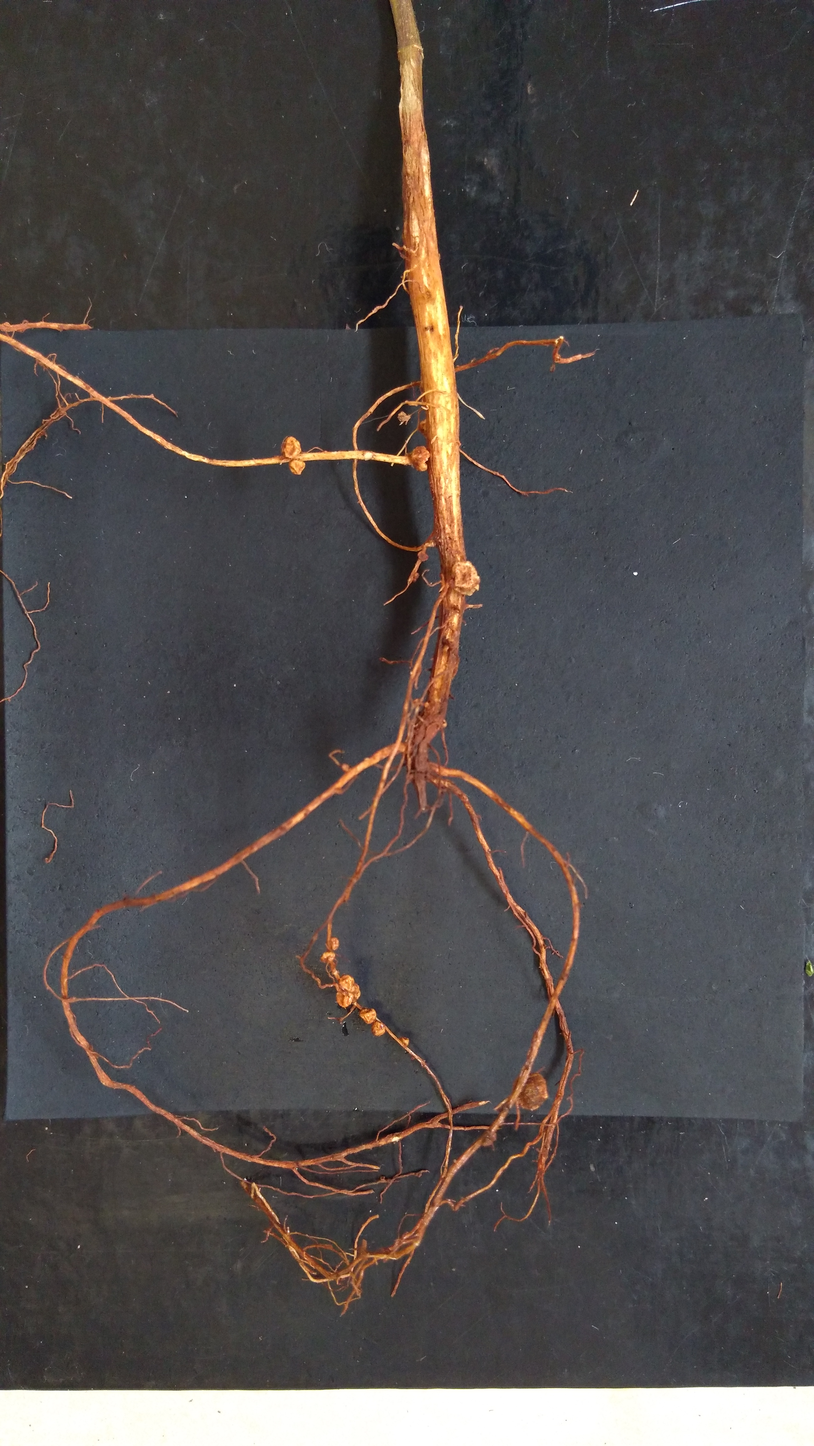nodule: (510, 1070, 550, 1113), (449, 558, 482, 598), (334, 974, 361, 1008), (408, 443, 430, 475), (278, 433, 303, 459), (286, 459, 306, 477), (358, 1007, 378, 1025), (370, 1020, 387, 1037), (396, 411, 412, 425), (320, 951, 336, 965), (416, 550, 429, 563), (330, 936, 341, 951), (400, 1036, 411, 1047), (411, 571, 420, 583)
